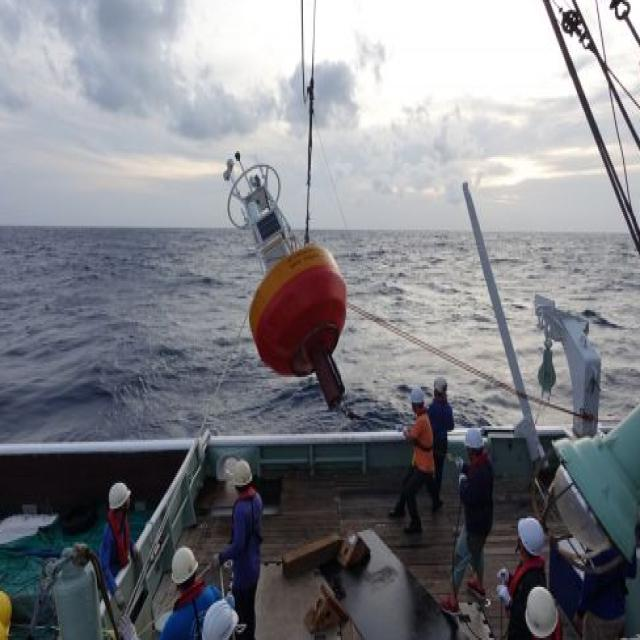buoy: (216, 145, 349, 406)
